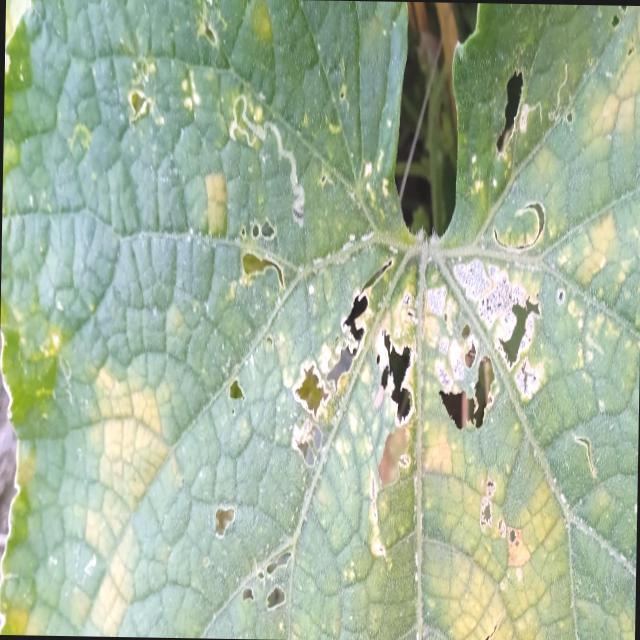cucumber_anthracnose: (83, 13, 638, 634)
